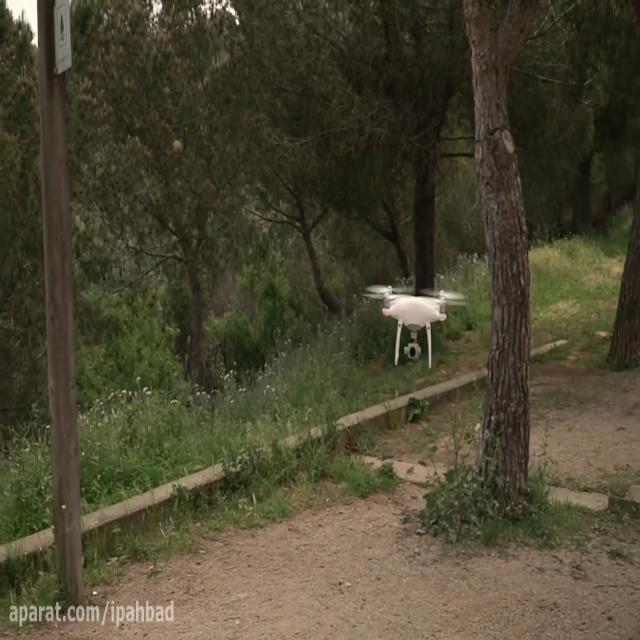drone: (362, 283, 468, 365)
